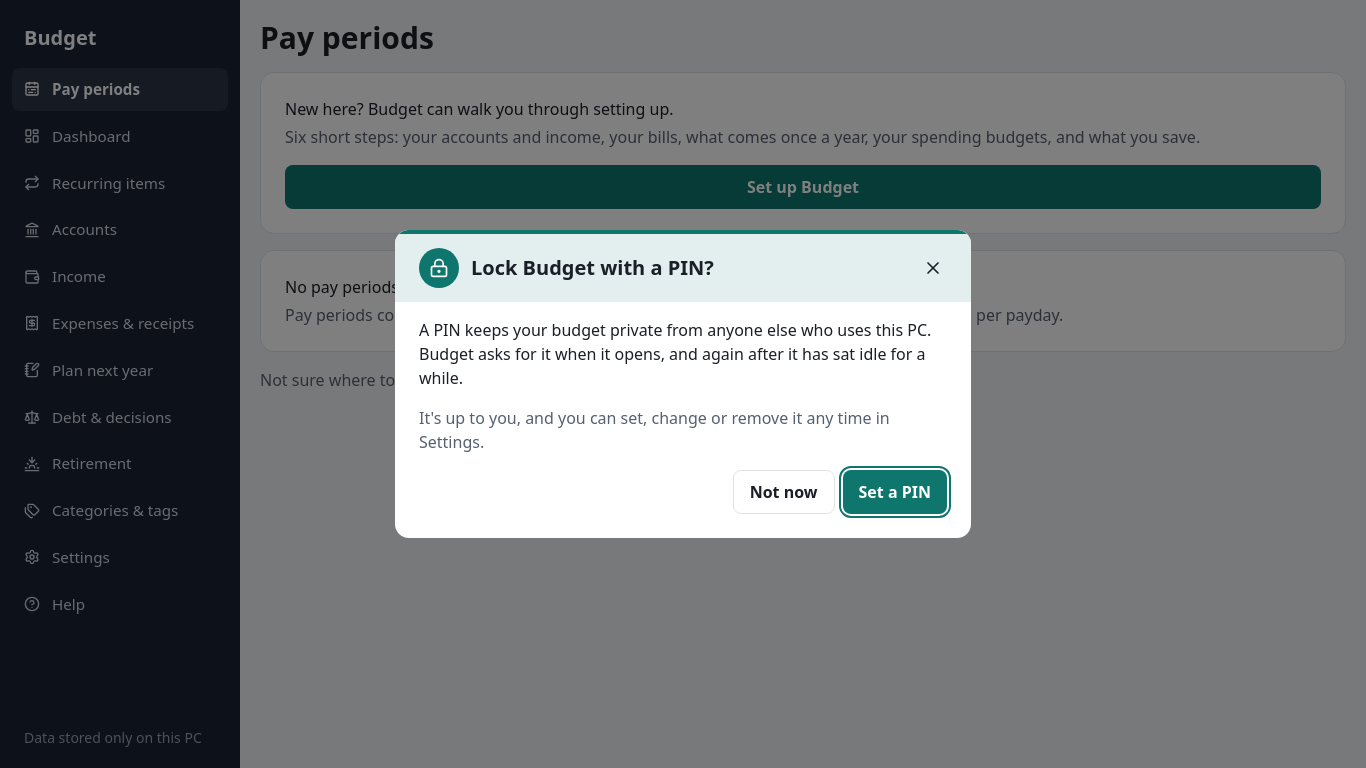
it: the offer to set a PIN › is made once, and Not now is an answer
expect the dialog "Lock Budget with a PIN?" shows "any time in Settings": met, box [419, 407, 890, 453]
Click the button "Not now" at (784, 492), box [733, 470, 834, 514]
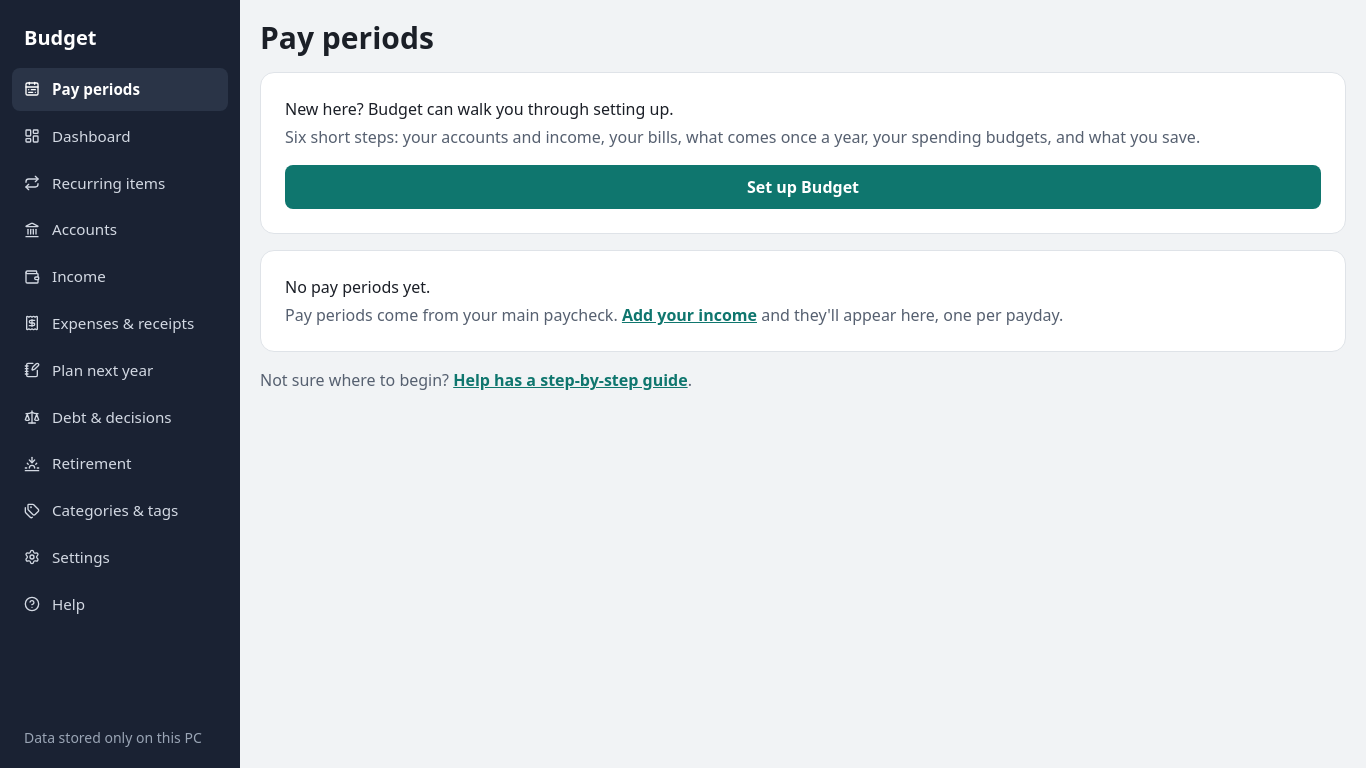
expect the dialog is gone: met
